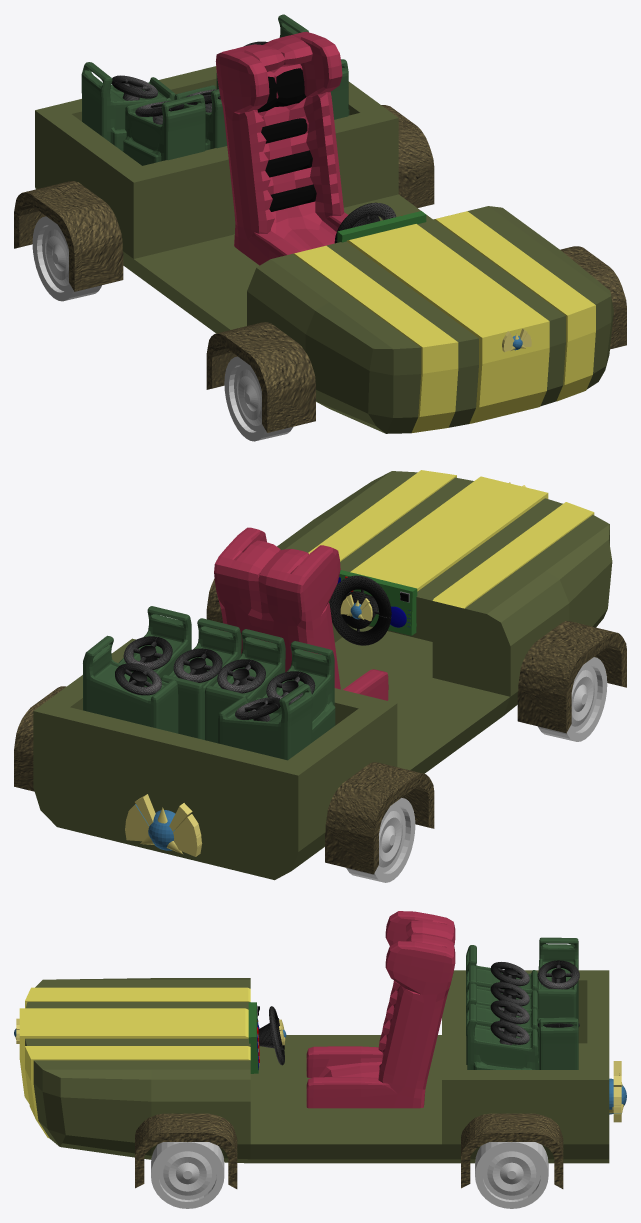
File: AdmiralKartTest.fbx
3 views of the same model, one above another, from view 1: azimuth 30°, elevation 25°; view 2: azimuth 150°, elevation 25°; view 3: azimuth 270°, elevation 25° (orthographic). The views are drawn at different scales.
Visible parts, largest first — view 1: ChaciDoCarro, Assento, Galões, ParaLama.TR, ParaLama.FR, ParaLama.TL, Roda.FR, Roda.TR, ParaLama.FL, Tampas, Painel, Volante; view 2: ChaciDoCarro, Galões, Assento, ParaLama.FR, ParaLama.TR, Tampas, Detalhe chachi 2, Volante, Roda.TR, Roda.FR, Painel, ParaLama.TL (+1 smaller); view 3: ChaciDoCarro, Assento, Galões, Roda.TL, Roda.FL, Tampas, ParaLama.FL, ParaLama.TL, Volante, Detalhe chachi 2, Painel.
Boxes of the visible parts, x1=… form: ChaciDoCarro: x1=35, y1=66, x2=613, y2=433; Assento: x1=215, y1=31, x2=347, y2=265; Galões: x1=81, y1=14, x2=349, y2=165; ParaLama.TR: x1=14, y1=181, x2=123, y2=291; ParaLama.FR: x1=206, y1=322, x2=315, y2=432; ParaLama.TL: x1=381, y1=105, x2=434, y2=207; Roda.FR: x1=224, y1=356, x2=293, y2=441; Roda.TR: x1=32, y1=216, x2=101, y2=301; ParaLama.FL: x1=560, y1=246, x2=626, y2=349; Tampas: x1=111, y1=41, x2=267, y2=124; Painel: x1=337, y1=211, x2=426, y2=242; Volante: x1=334, y1=202, x2=396, y2=243; ChaciDoCarro: x1=33, y1=470, x2=612, y2=880; Galões: x1=83, y1=606, x2=335, y2=760; Assento: x1=214, y1=527, x2=388, y2=700; ParaLama.FR: x1=517, y1=621, x2=626, y2=733; ParaLama.TR: x1=325, y1=762, x2=434, y2=874; Tampas: x1=115, y1=636, x2=315, y2=721; Detalhe chachi 2: x1=125, y1=794, x2=202, y2=856; Volante: x1=329, y1=575, x2=391, y2=645; Roda.TR: x1=346, y1=798, x2=415, y2=882; Roda.FR: x1=538, y1=657, x2=607, y2=741; Painel: x1=329, y1=570, x2=417, y2=635; ParaLama.TL: x1=14, y1=686, x2=66, y2=791; ChaciDoCarro: x1=19, y1=970, x2=609, y2=1163; Assento: x1=306, y1=911, x2=455, y2=1108; Galões: x1=466, y1=937, x2=578, y2=1069; Roda.TL: x1=475, y1=1142, x2=548, y2=1208; Roda.FL: x1=151, y1=1142, x2=224, y2=1208; Tampas: x1=490, y1=960, x2=579, y2=1045; ParaLama.FL: x1=135, y1=1113, x2=237, y2=1188; ParaLama.TL: x1=461, y1=1113, x2=563, y2=1188; Volante: x1=258, y1=1006, x2=284, y2=1065; Detalhe chachi 2: x1=609, y1=1061, x2=626, y2=1122; Painel: x1=248, y1=1002, x2=259, y2=1073.
Size of the model in its own units: 735 by 492 by 1283.
